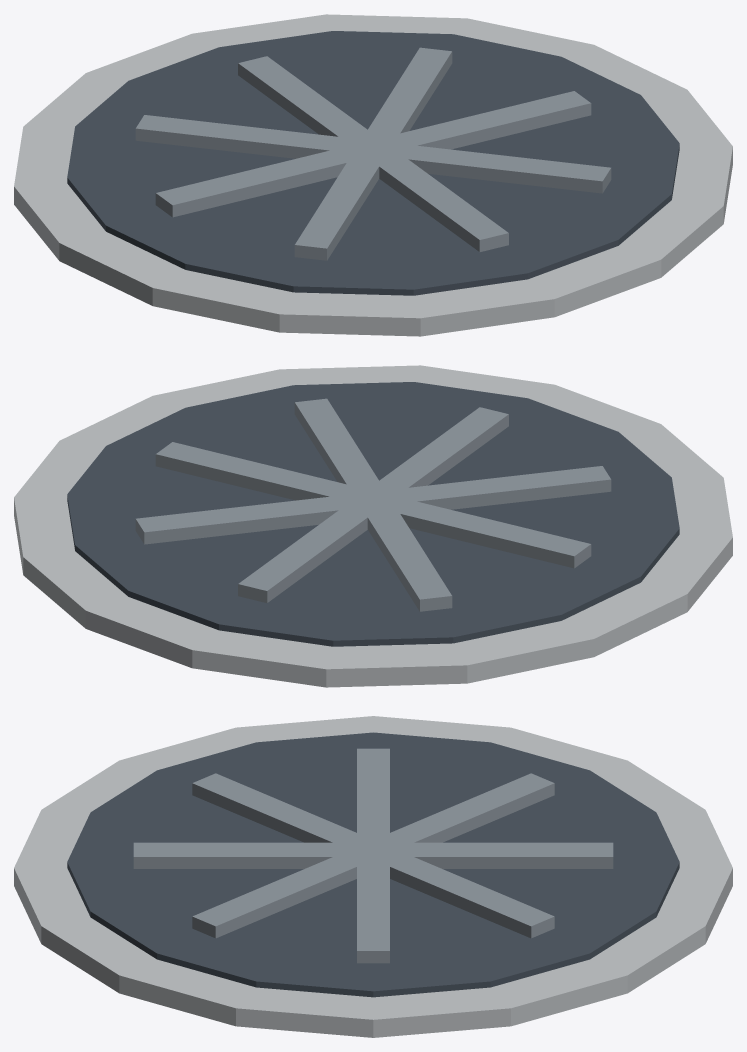
Rendered from prop_manhole.glb.
3 views of the same model, one above another, from view 1: azimuth 30°, elevation 25°; view 2: azimuth 150°, elevation 25°; view 3: azimuth 270°, elevation 25° (orthographic).
Visible parts, largest first — view 1: cover.001, ring.001, rib.004, rib.007, rib.006, rib.005; view 2: cover.001, ring.001, rib.004, rib.005, rib.006, rib.007; view 3: cover.001, ring.001, rib.006, rib.007, rib.005, rib.004.
Part boxes in pixels (left/top/right/bottom): cover.001: left=67, top=31, right=679, bottom=295; ring.001: left=14, top=14, right=732, bottom=336; rib.004: left=155, top=91, right=591, bottom=217; rib.007: left=135, top=115, right=611, bottom=193; rib.006: left=238, top=56, right=508, bottom=251; rib.005: left=294, top=47, right=452, bottom=260; cover.001: left=67, top=382, right=679, bottom=646; ring.001: left=14, top=365, right=732, bottom=687; rib.004: left=155, top=442, right=591, bottom=568; rib.005: left=135, top=466, right=611, bottom=544; rib.006: left=238, top=407, right=508, bottom=602; rib.007: left=294, top=398, right=452, bottom=611; cover.001: left=67, top=732, right=679, bottom=997; ring.001: left=14, top=716, right=732, bottom=1037; rib.006: left=133, top=842, right=613, bottom=868; rib.007: left=192, top=773, right=554, bottom=938; rib.005: left=192, top=773, right=554, bottom=938; rib.004: left=357, top=748, right=389, bottom=963.
Bounding box in the file's own units: 1.08 × 0.06 × 1.08.
